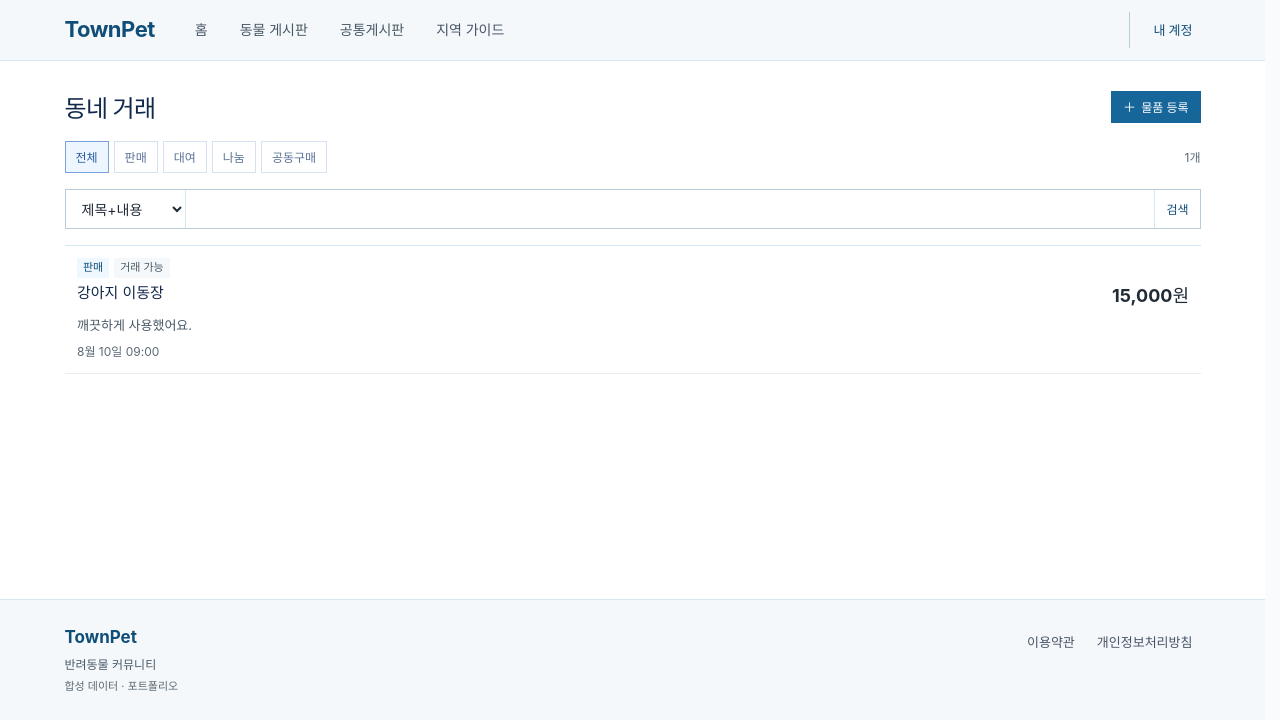
Test: Marketplace journeys › loads the public listing and creates a new listing
Check: the heading "강아지 이동장" is shown, box [76,283,163,302]
Click the link "＋ 물품 등록".
click(1156, 107)  # box [1111,91,1200,123]
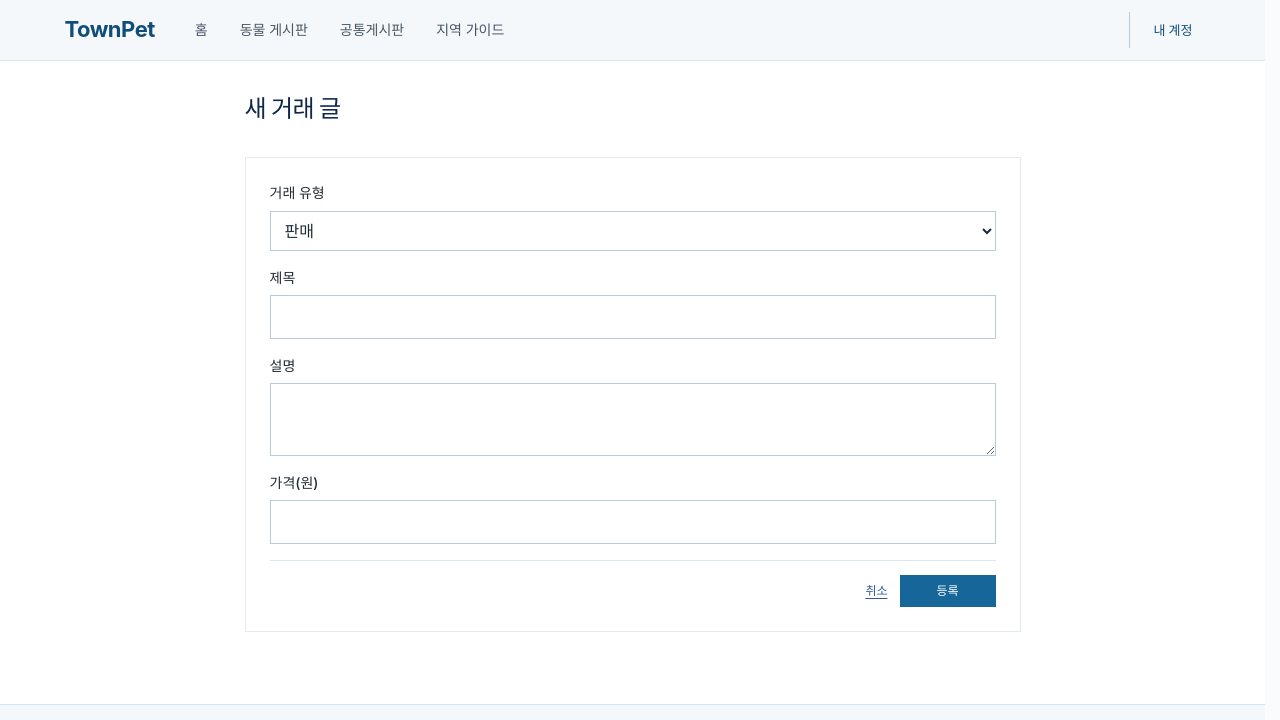
Check: the heading "새 거래 글" is shown, box [244,93,341,125]
Select "판매" in the dropdown labelled "거래 유형" at (632, 231), box [270,211,996,251]
Type "새 이동장" into the field labelled "제목".
click(632, 317); type("새 이동장")  # box [270,295,996,339]
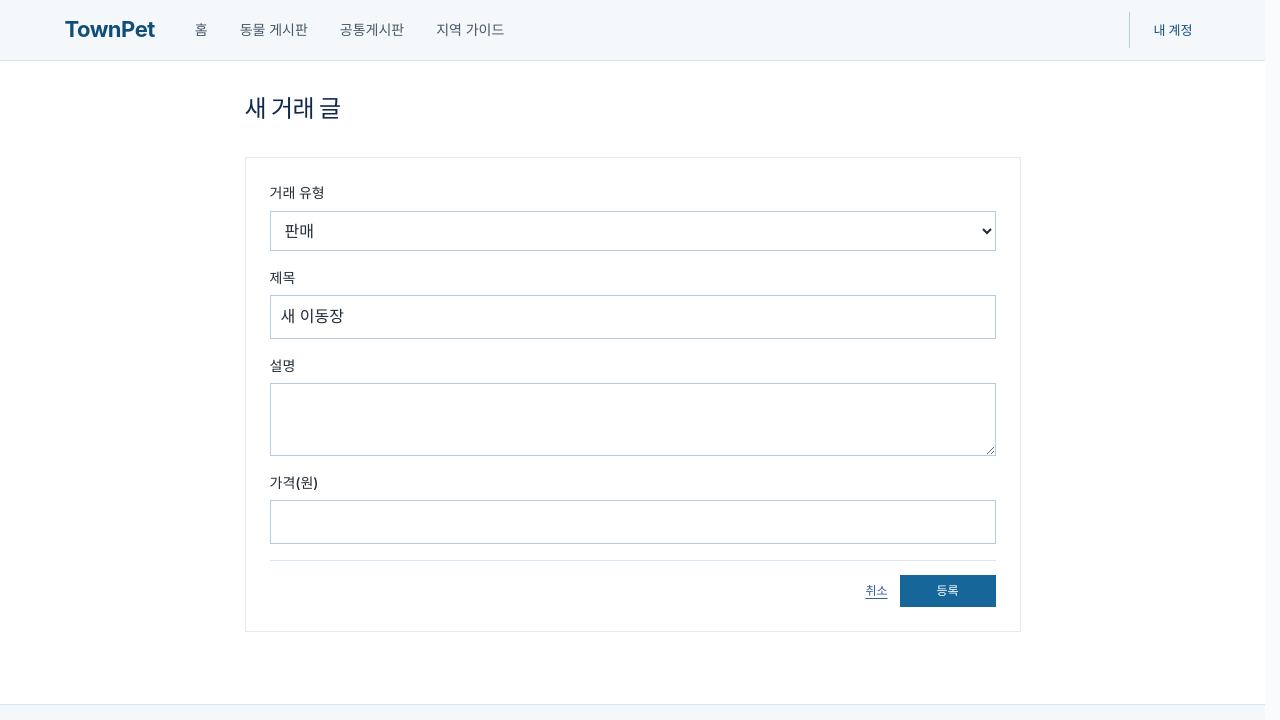
Type "새 상품 설명" into the text box labelled "설명".
click(632, 419); type("새 상품 설명")  # box [270,383,996,456]
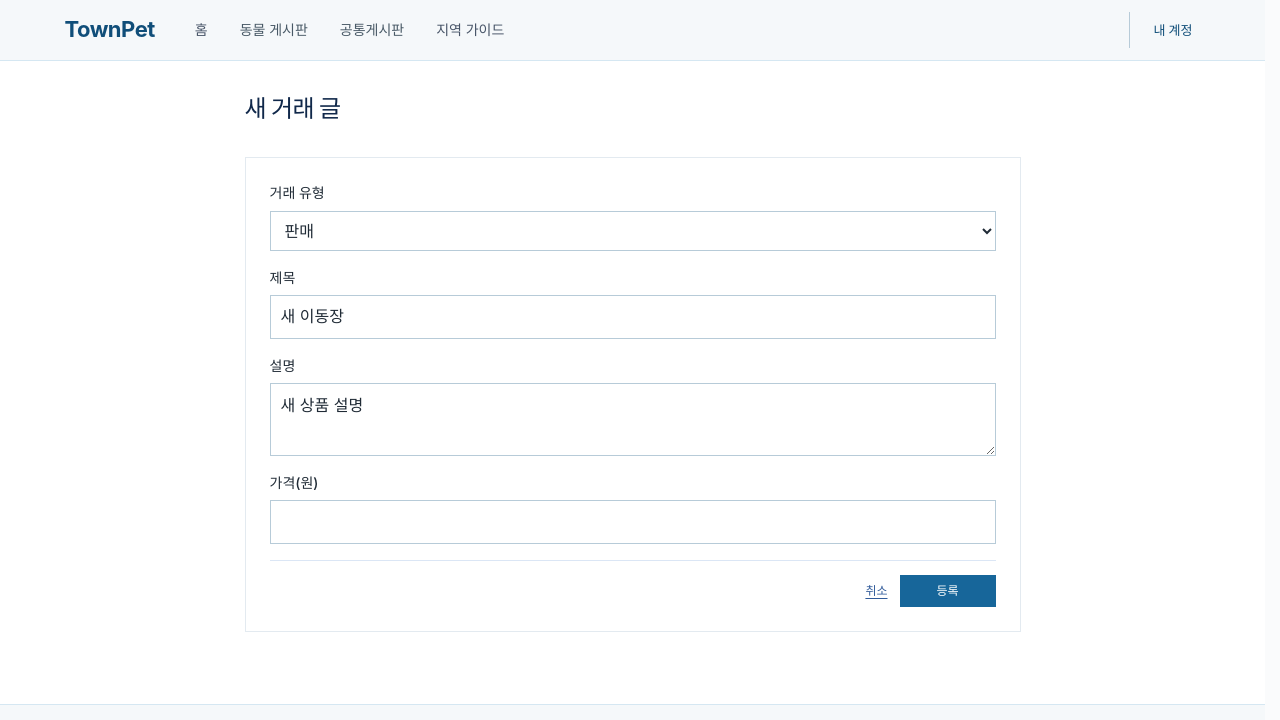
Type "12000" into the number field labelled "가격(원)".
click(632, 522); type("12000")  # box [270,500,996,544]
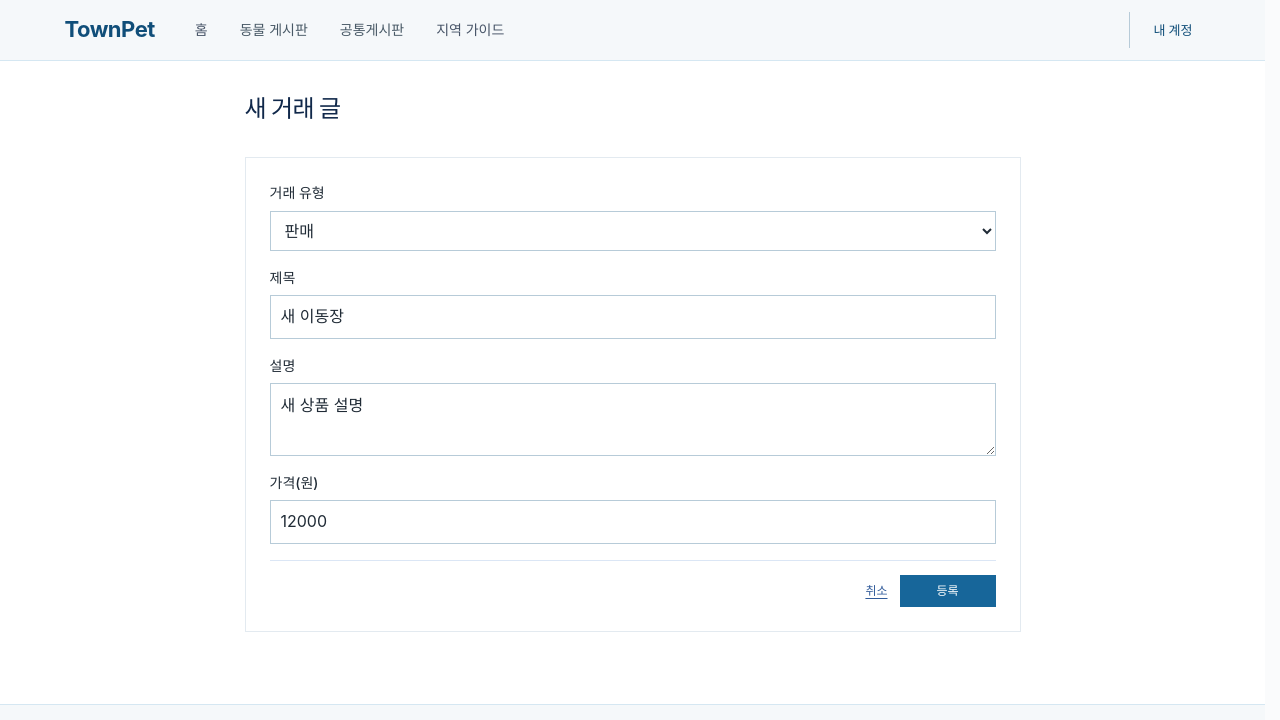
Click the button "등록".
click(948, 590)  # box [900,574,996,606]
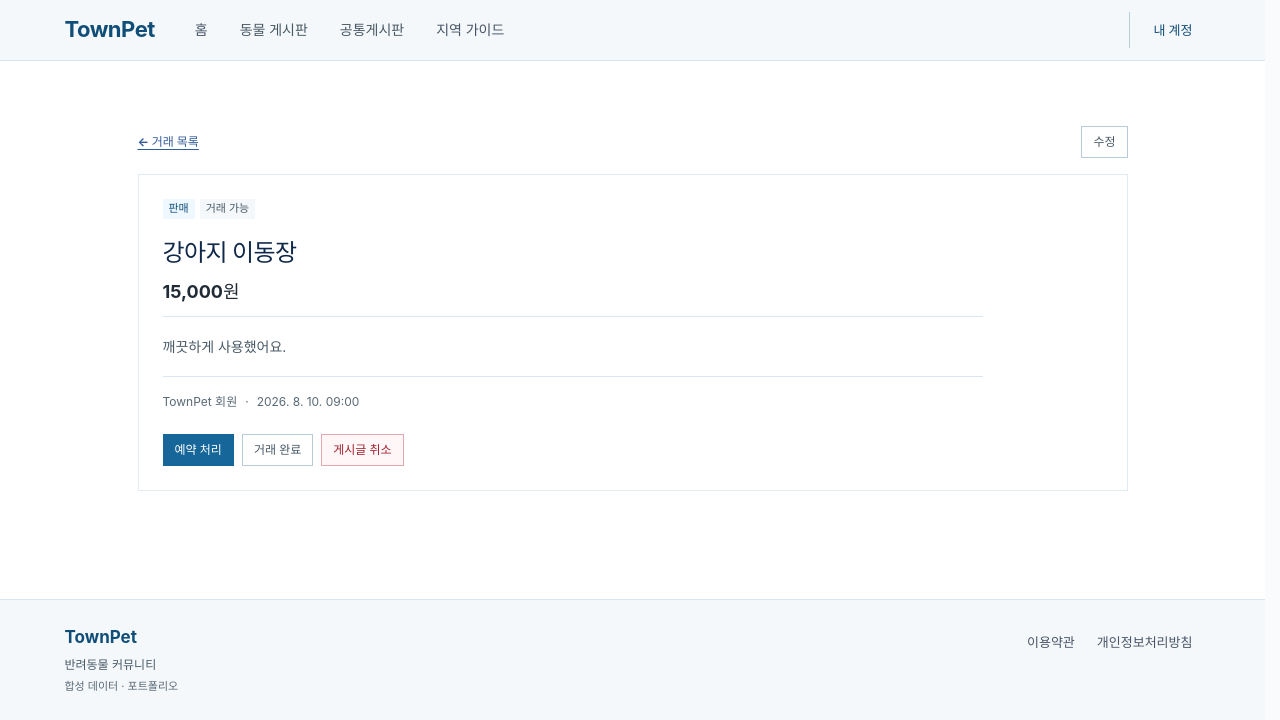
Check: the heading "강아지 이동장" is shown, box [162,238,296,266]
